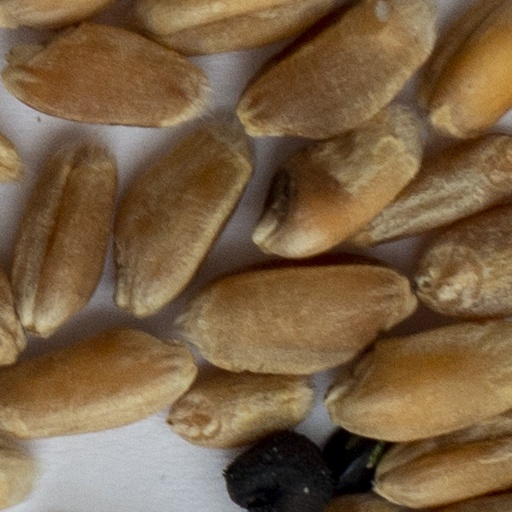Agrostemma-poly: (226, 432, 335, 511)
Fallopia-Convolvulus-poly: (325, 432, 379, 492)
